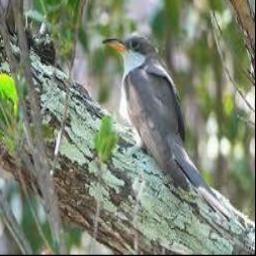Cuckoo: (103, 32, 222, 204)
